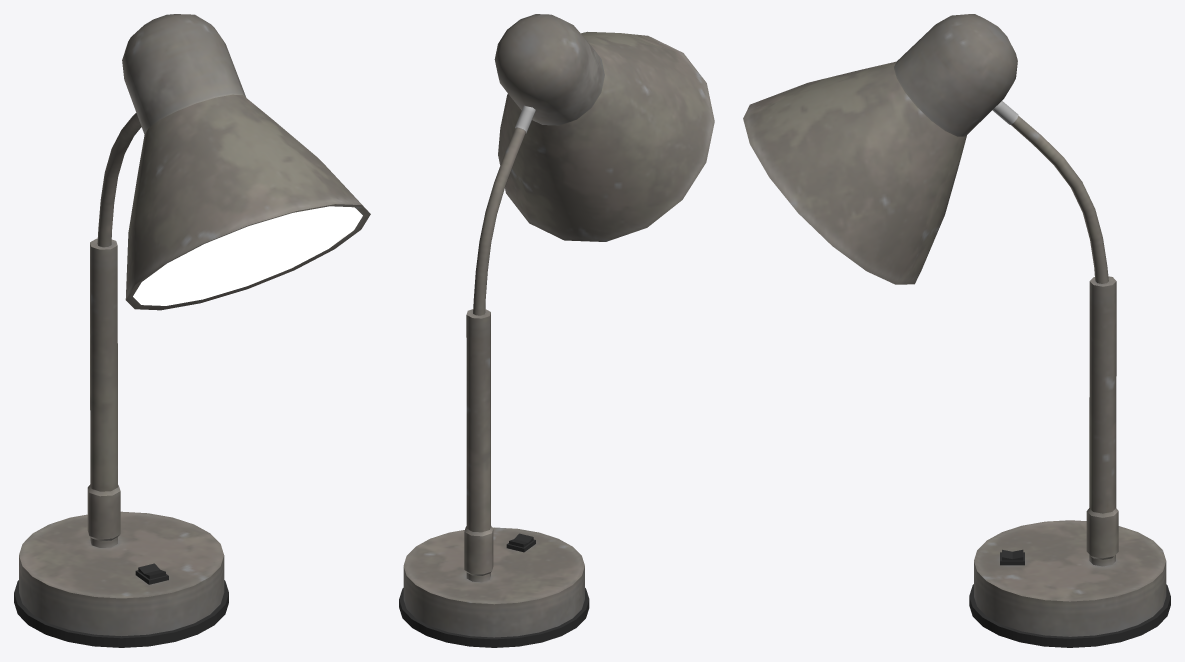
File: SM_Lamp.fbx
3 views of the same model, side by side, from view 1: azimuth 30°, elevation 25°; view 2: azimuth 150°, elevation 25°; view 3: azimuth 270°, elevation 25° (orthographic). The views are drawn at different scales.
Visible parts, largest first — view 1: SM_Lamp_LOD0; view 2: SM_Lamp_LOD0; view 3: SM_Lamp_LOD0.
Part boxes in pixels (x1,y1,x2,y2): SM_Lamp_LOD0: (14, 14, 370, 647); SM_Lamp_LOD0: (399, 14, 714, 647); SM_Lamp_LOD0: (743, 14, 1170, 647).
Bounding box in the file's own units: 18.44 × 32.24 × 48.82.
